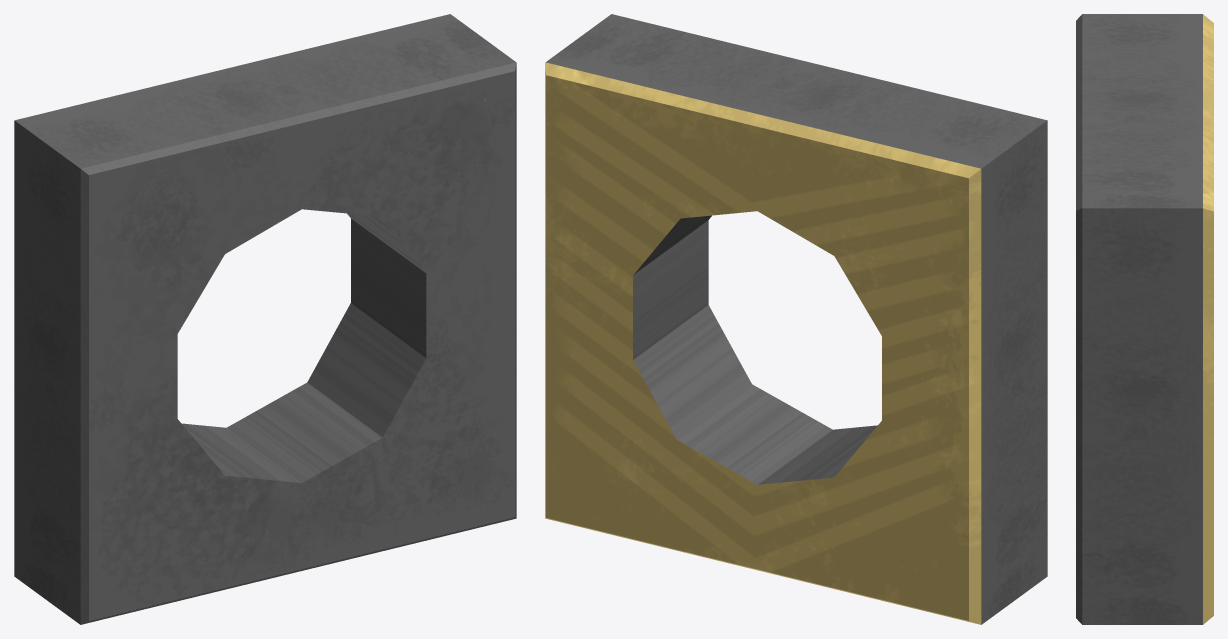
File: Floor_05.fbx
3 renders of one model, left to right at view 1: azimuth 30°, elevation 25°; view 2: azimuth 150°, elevation 25°; view 3: azimuth 270°, elevation 25°, orthographic. The views are drawn at different scales.
Parts seen in each view (by area): view 1: Floor_05; view 2: Floor_05; view 3: Floor_05.
Part boxes in pixels (box(x1,y1,x2,y2)): Floor_05: box(14, 14, 516, 624); Floor_05: box(545, 14, 1047, 624); Floor_05: box(1076, 14, 1213, 624).
Bounding box in the file's own units: 5 × 5 × 1.5.
